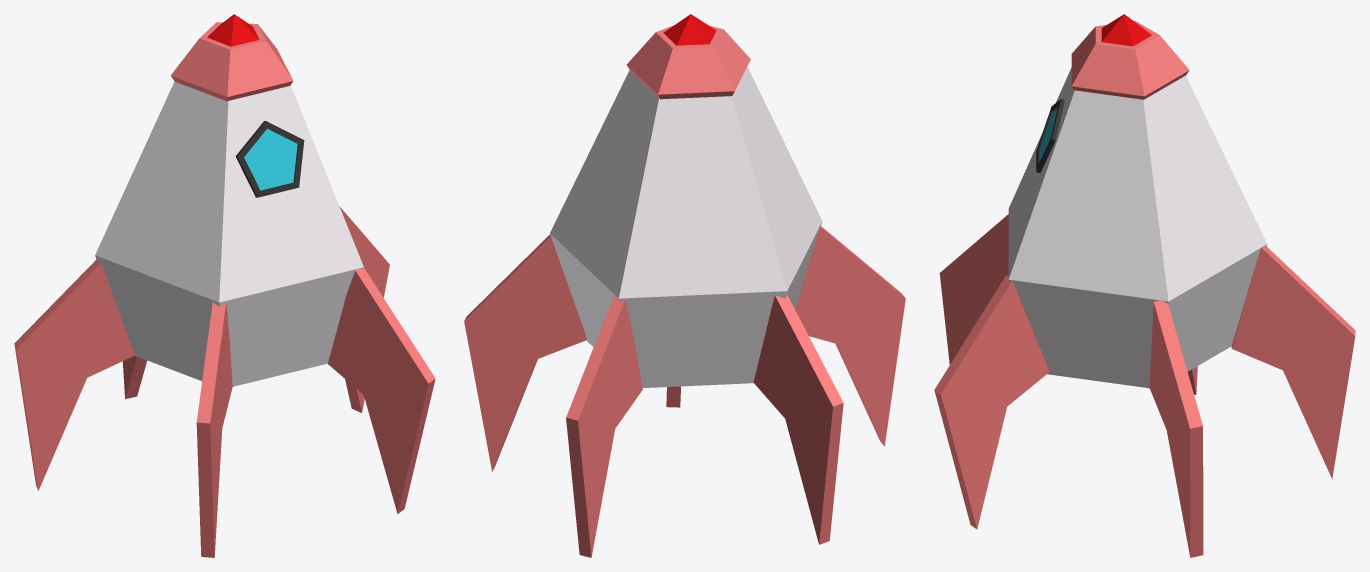
The model's file is lowpolyrocket.fbx.
The picture shows the model from 3 angles, left to right: view 1: azimuth 30°, elevation 25°; view 2: azimuth 150°, elevation 25°; view 3: azimuth 270°, elevation 25°; orthographic projection.
Visible parts, largest first — view 1: LowPolyRocketi, flügel.003, flügel.004, flügel.002, nase, window, flügel, Cone, flügel.001; view 2: LowPolyRocketi, flügel, flügel.002, flügel.003, flügel.001, nase, Cone; view 3: LowPolyRocketi, flügel.001, flügel.004, flügel, nase, flügel.002, Cone, window.
Boxes of the visible parts, bbox=[...] form: LowPolyRocketi: bbox=[95, 81, 363, 386]; flügel.003: bbox=[14, 259, 134, 490]; flügel.004: bbox=[328, 268, 435, 513]; flügel.002: bbox=[196, 302, 232, 557]; nase: bbox=[171, 22, 293, 101]; window: bbox=[235, 121, 304, 197]; flügel: bbox=[339, 206, 389, 412]; Cone: bbox=[207, 14, 259, 46]; flügel.001: bbox=[122, 355, 147, 399]; LowPolyRocketi: bbox=[550, 66, 822, 387]; flügel: bbox=[464, 234, 586, 471]; flügel.002: bbox=[795, 226, 905, 445]; flügel.003: bbox=[753, 295, 843, 544]; flügel.001: bbox=[566, 294, 642, 557]; nase: bbox=[626, 25, 750, 99]; Cone: bbox=[663, 14, 716, 45]; LowPolyRocketi: bbox=[1008, 67, 1267, 388]; flügel.001: bbox=[1231, 246, 1355, 478]; flügel.004: bbox=[934, 275, 1049, 529]; flügel: bbox=[1149, 300, 1203, 557]; nase: bbox=[1071, 21, 1189, 99]; flügel.002: bbox=[939, 214, 1008, 364]; Cone: bbox=[1101, 14, 1151, 46]; window: bbox=[1036, 99, 1064, 172].
Bounding box in the file's own units: 382 × 456 × 372.
